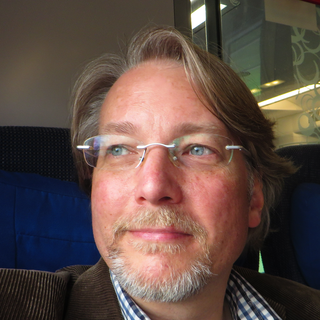eye: (174, 140, 220, 163), (101, 141, 142, 164)
